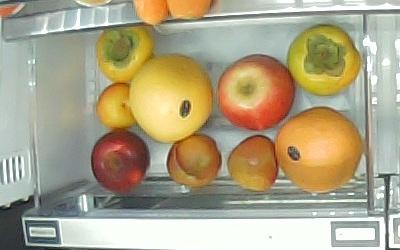apple: (216, 53, 295, 131), (89, 130, 150, 194)
grapefruit: (127, 52, 212, 144), (275, 107, 362, 194)
persimmon: (288, 23, 360, 96), (94, 24, 154, 84)
prune: (165, 134, 221, 189), (225, 135, 277, 193), (95, 83, 136, 129)
